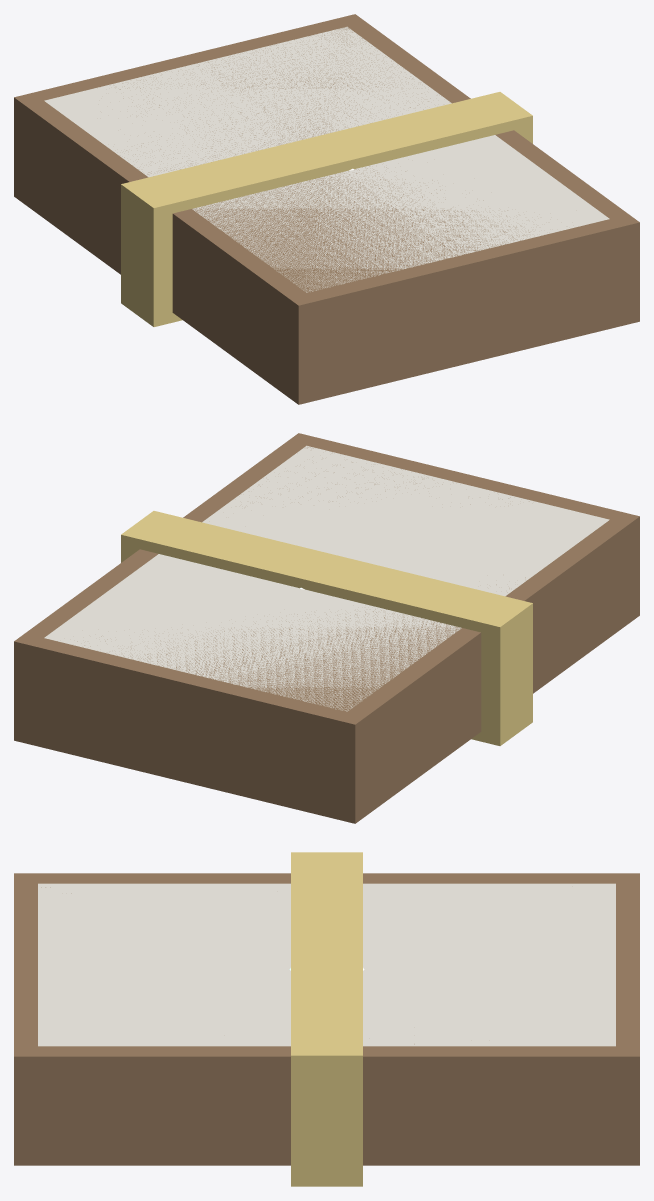
Rendered from wpn_book.glb.
The picture shows the model from 3 angles, top to bottom: view 1: azimuth 30°, elevation 25°; view 2: azimuth 150°, elevation 25°; view 3: azimuth 270°, elevation 25°; orthographic projection. The views are drawn at different scales.
Visible parts, largest first — view 1: wpn_book; view 2: wpn_book; view 3: wpn_book.
Part boxes in pixels (x1,y1,x2,y2): wpn_book: (14, 14, 639, 404); wpn_book: (14, 433, 639, 823); wpn_book: (14, 852, 639, 1186).
Bounding box in the file's own units: 0.2 × 0.06 × 0.26.
